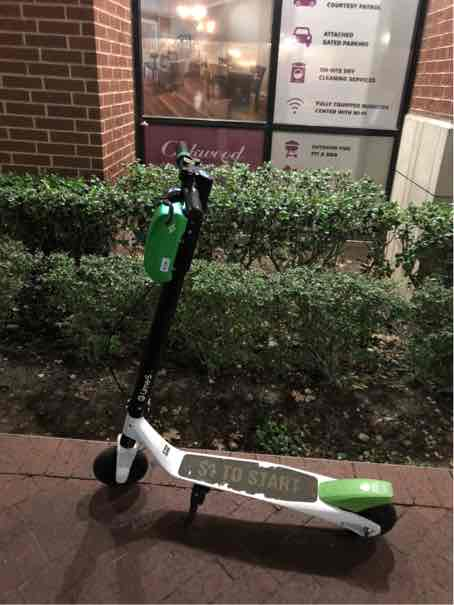scooter: (83, 139, 411, 546)
